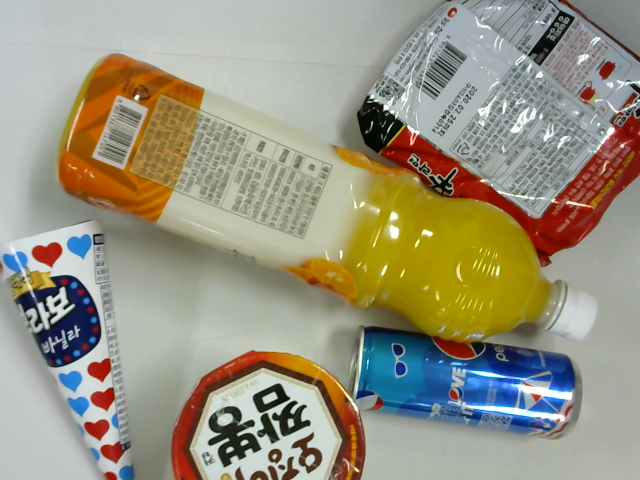Bravo_Cone_(Banila)_CVS: (1, 219, 140, 480)
Jeju_Tangerine_1.5L: (56, 53, 602, 341)
Ojjam: (171, 353, 370, 480)
Pepsi_Cola_Can_250ml: (347, 326, 584, 443)
Sinramen: (358, 1, 640, 267)
